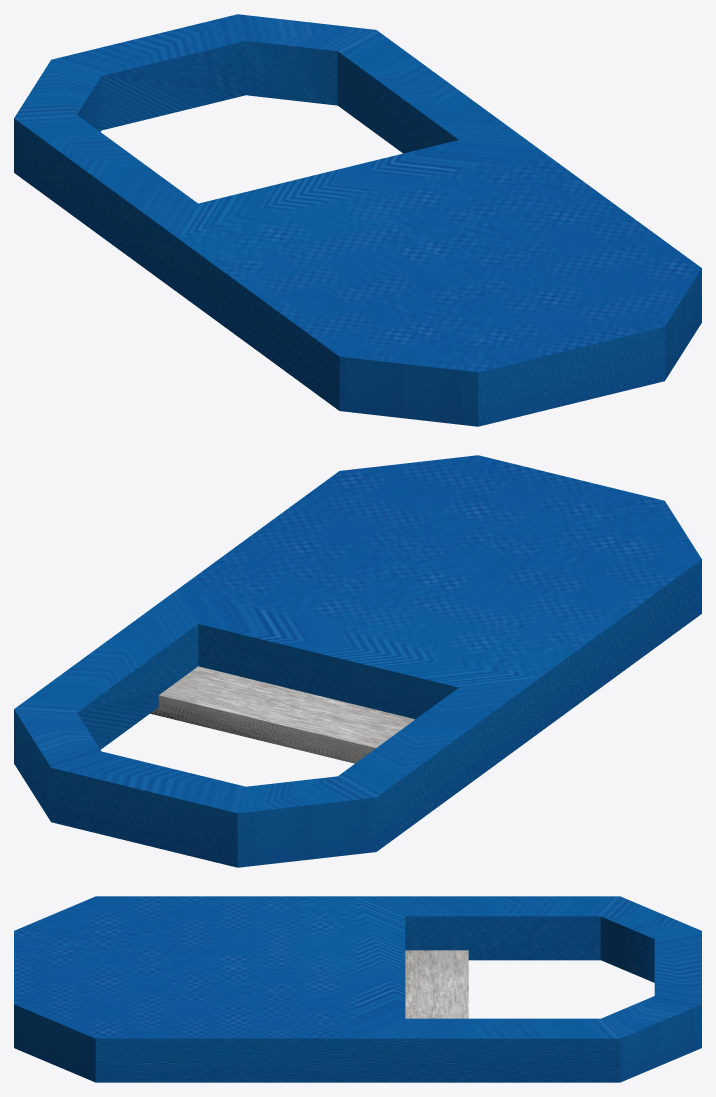
The model's file is opener1.FBX.
The picture shows the model from 3 angles, top to bottom: view 1: azimuth 30°, elevation 25°; view 2: azimuth 150°, elevation 25°; view 3: azimuth 270°, elevation 25°; orthographic projection. The views are drawn at different scales.
Visible parts, largest first — view 1: Box001; view 2: Box001, Box002; view 3: Box001, Box002.
Boxes of the visible parts, box(x1,y1,x2,y2) form: Box001: box(14, 14, 701, 426); Box001: box(14, 455, 701, 867); Box002: box(150, 666, 414, 763); Box001: box(14, 896, 701, 1082); Box002: box(405, 950, 468, 1018).
Size of the model in its own units: 36.31 by 6.03 by 74.09.
Materials: 2 (2 with a texture image).
